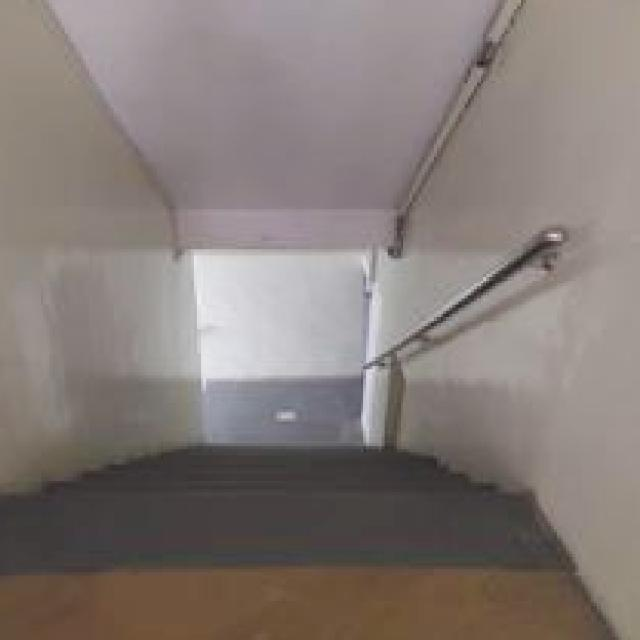downstair: (103, 386, 401, 527)
